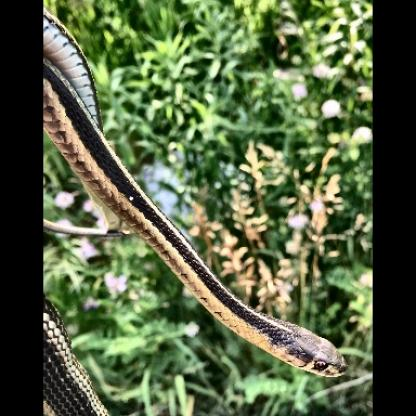Snake: (52, 84, 350, 380)
